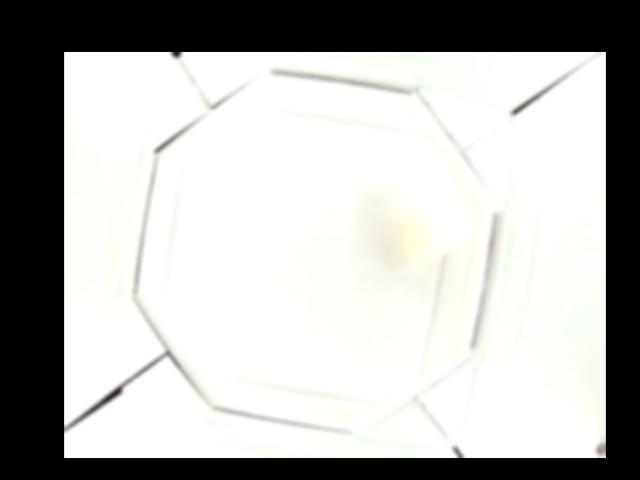Mooli: (401, 196, 468, 267)
